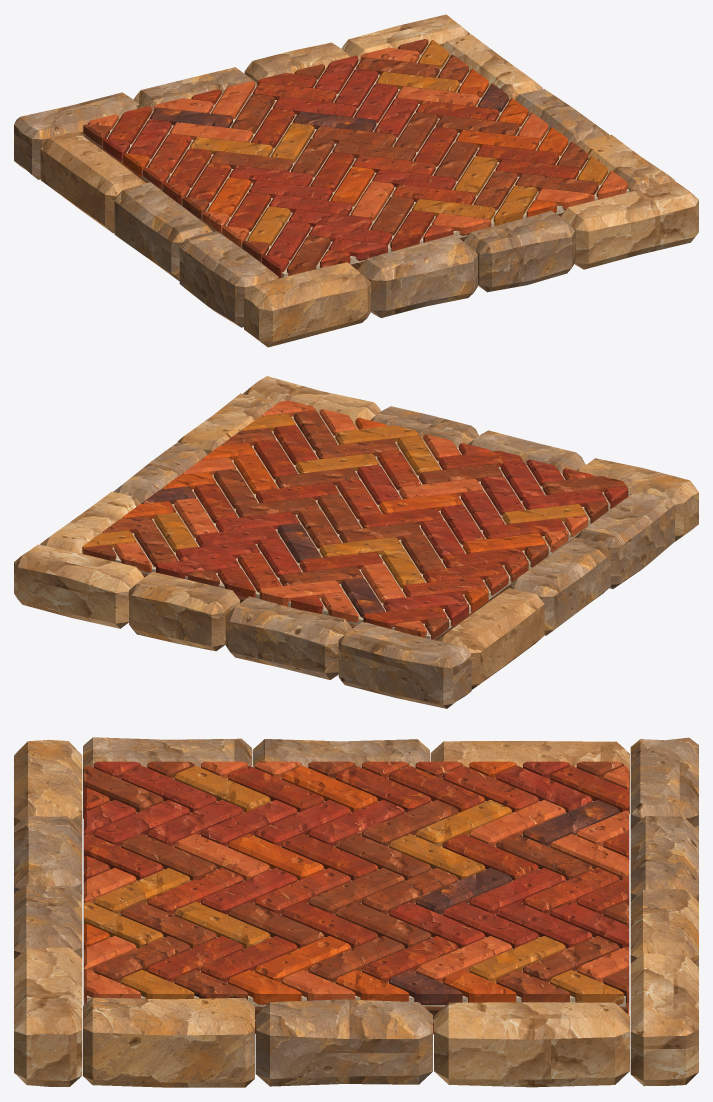
The model's file is ceiling_panel__clay_brick.glb.
3 renders of one model, top to bottom at view 1: azimuth 30°, elevation 25°; view 2: azimuth 150°, elevation 25°; view 3: azimuth 270°, elevation 25°, orthographic. The views are drawn at different scales.
Visible parts, largest first — view 1: model; view 2: model; view 3: model.
Boxes of the visible parts, x1,y1,x2,y2 form: model: (14, 14, 698, 347); model: (14, 376, 698, 708); model: (14, 737, 698, 1087).
Size of the model in its own units: 1.99 by 0.2359 by 1.99.
15 materials, 15 textured.
